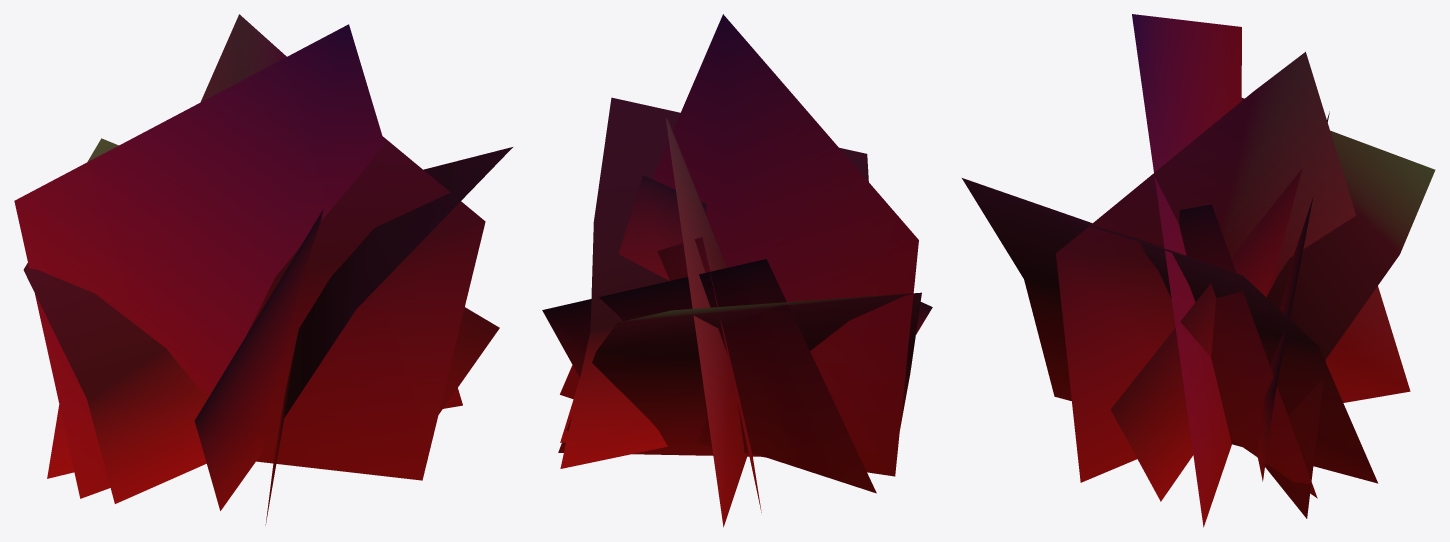
File: dry_grass.fbx
The picture shows the model from 3 angles, left to right: view 1: azimuth 30°, elevation 25°; view 2: azimuth 150°, elevation 25°; view 3: azimuth 270°, elevation 25°; orthographic projection. The views are drawn at different scales.
Visible parts, largest first — view 1: Polygon; view 2: Polygon; view 3: Polygon.
Part boxes in pixels (x1,y1,x2,y2): Polygon: [14, 14, 512, 524]; Polygon: [542, 14, 932, 527]; Polygon: [962, 14, 1435, 527].
Bounding box in the file's own units: 100 × 102 × 96.36.
